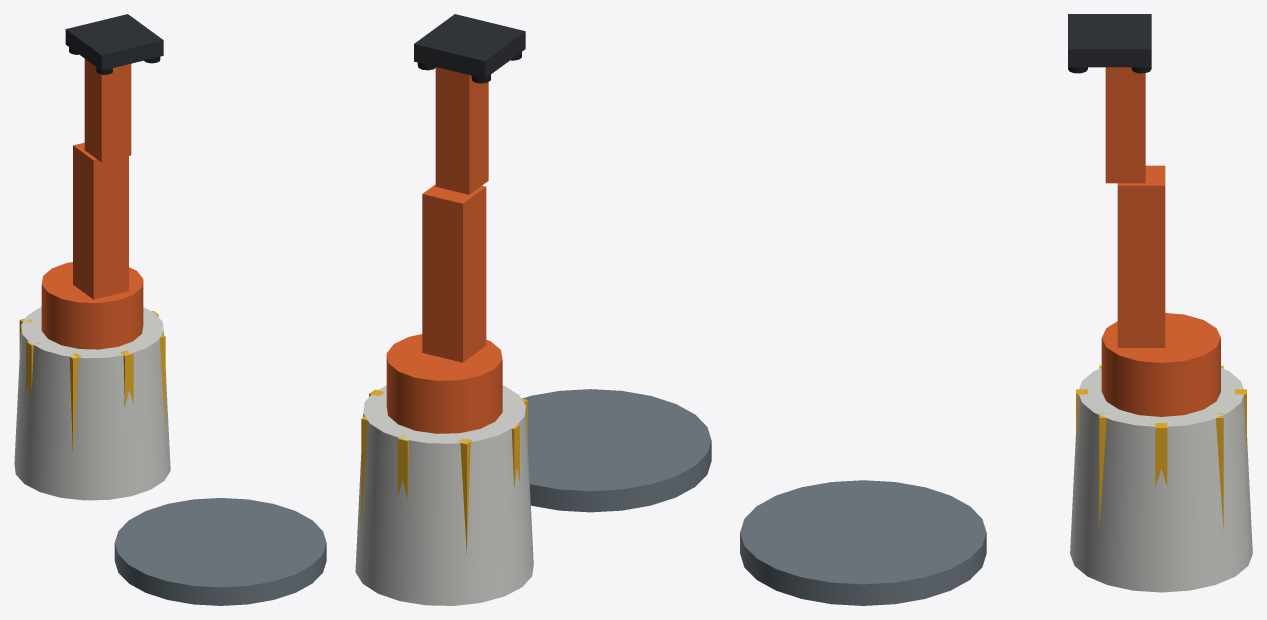
File: equipment--roboticPalletizer.glb
The picture shows the model from 3 angles, left to right: view 1: azimuth 30°, elevation 25°; view 2: azimuth 150°, elevation 25°; view 3: azimuth 270°, elevation 25°; orthographic projection. The views are drawn at different scales.
Visible parts, largest first — view 1: roboticPalletizer:shell, turntable, upperArm, turret, foreArm, wrist; view 2: roboticPalletizer:shell, turntable, upperArm, turret, foreArm, wrist; view 3: roboticPalletizer:shell, turntable, turret, upperArm, wrist, foreArm.
Part boxes in pixels (x1,y1,x2,y2): roboticPalletizer:shell: (14,307,170,500); turntable: (114,498,326,605); upperArm: (73,142,128,299); turret: (41,262,143,349); foreArm: (84,59,131,162); wrist: (65,14,163,74); roboticPalletizer:shell: (355,385,533,605); turntable: (522,389,711,512); upperArm: (422,184,486,362); turret: (386,334,502,433); foreArm: (435,67,488,194); wrist: (414,14,525,83); roboticPalletizer:shell: (1070,365,1252,592); turntable: (740,480,986,605); turret: (1101,313,1220,416); upperArm: (1117,165,1165,347); wrist: (1068,14,1151,73); foreArm: (1105,67,1145,183).
Size of the model in its own units: 1.24 by 2.9 by 2.58.
